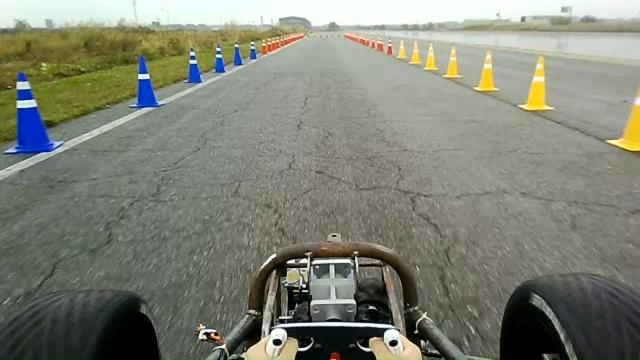blue cone: (3, 71, 63, 154), (128, 55, 165, 108), (184, 47, 202, 83), (212, 44, 226, 73), (232, 42, 244, 66), (249, 40, 257, 60)
yellow cone: (606, 87, 639, 152), (518, 56, 554, 111), (473, 51, 499, 92), (442, 45, 462, 78), (423, 42, 438, 71), (408, 40, 422, 65), (396, 39, 407, 60)
